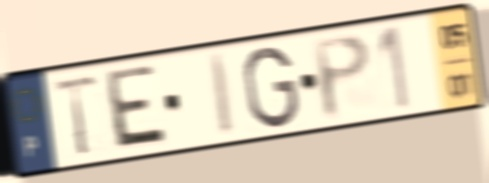1: (373, 22, 412, 116)
E: (104, 61, 172, 153)
G: (240, 43, 302, 132)
I: (207, 49, 238, 140)
P: (308, 30, 374, 124)
T: (51, 70, 101, 160)
